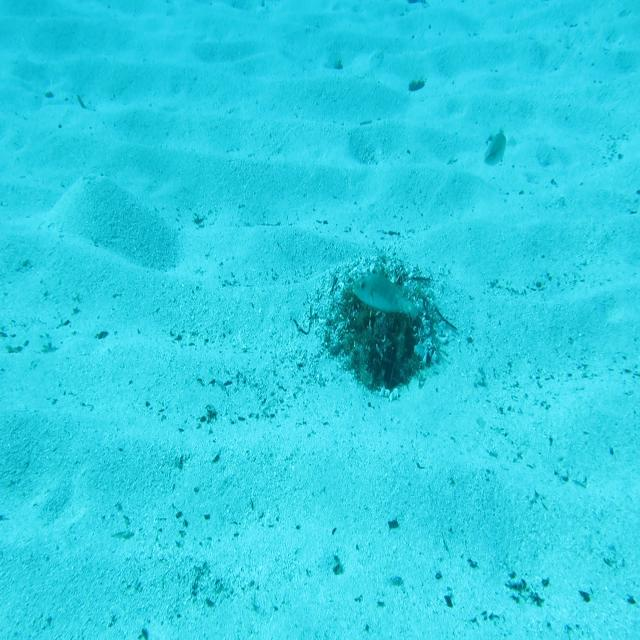UP: (345, 262, 424, 326)
female: (482, 125, 511, 177)
nest: (322, 252, 456, 394)
